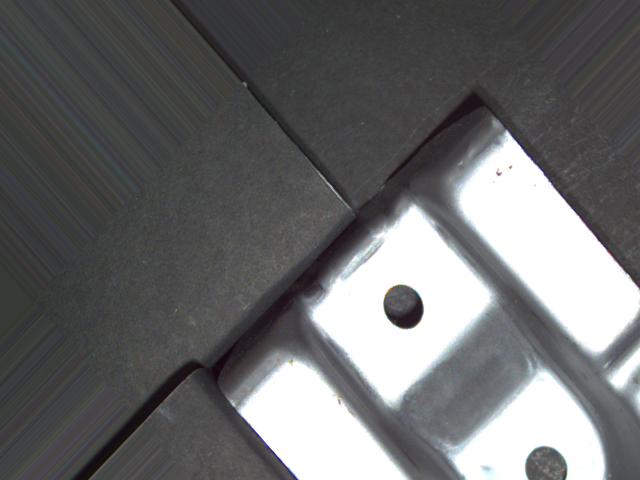defect: (521, 435, 573, 480)
